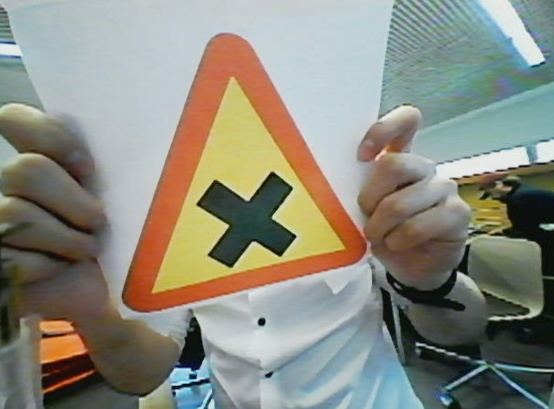junction: (115, 31, 369, 318)
